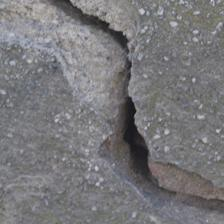Crack: (26, 2, 134, 187)
